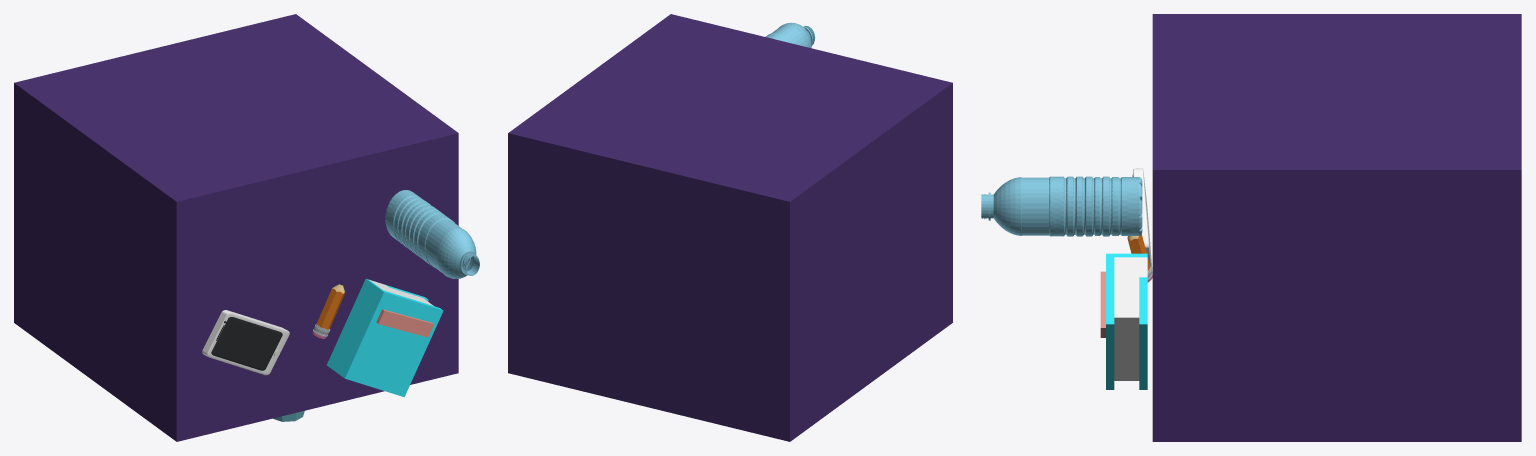
Rendered from tinker.obj.
The picture shows the model from 3 angles, left to right: view 1: azimuth 30°, elevation 25°; view 2: azimuth 150°, elevation 25°; view 3: azimuth 270°, elevation 25°; orthographic projection. The views are drawn at different scales.
Visible parts, largest first — view 1: group_0_4796018, group_0_3403775, group_0_8768998, group_0_2829873, group_0_16448250, group_0_15308428, group_0_16089887; view 2: group_0_4796018, group_0_8768998; view 3: group_0_4796018, group_0_8768998, group_0_16448250, group_0_3403775.
Boxes of the visible parts, box(x1,y1,x2,y2) form: group_0_4796018: box(14, 14, 458, 441); group_0_3403775: box(327, 279, 443, 397); group_0_8768998: box(385, 190, 479, 278); group_0_2829873: box(211, 283, 342, 370); group_0_16448250: box(202, 279, 433, 375); group_0_15308428: box(376, 309, 433, 337); group_0_16089887: box(316, 288, 345, 329); group_0_4796018: box(508, 14, 952, 441); group_0_8768998: box(765, 22, 815, 48); group_0_4796018: box(1152, 14, 1521, 441); group_0_8768998: box(981, 176, 1142, 236); group_0_16448250: box(1114, 168, 1152, 380); group_0_3403775: box(1106, 253, 1147, 389).
Bounding box in the file's own units: 71 × 65 × 104.
